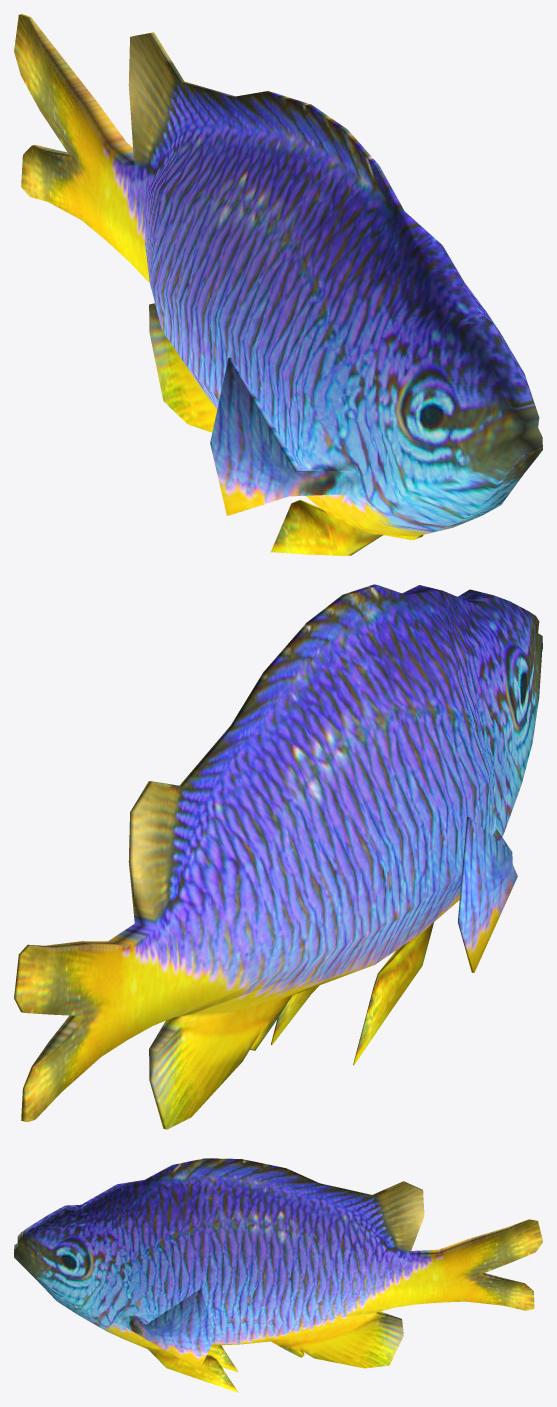
File: fish7.glb
3 renders of one model, top to bottom at view 1: azimuth 30°, elevation 25°; view 2: azimuth 150°, elevation 25°; view 3: azimuth 270°, elevation 25°, orthographic. The views are drawn at different scales.
Parts seen in each view (by area): view 1: Asset3DLoader.sceneRoot; view 2: Asset3DLoader.sceneRoot; view 3: Asset3DLoader.sceneRoot.
Part boxes in pixels (<box>): Asset3DLoader.sceneRoot: <box>14,14,542,555</box>; Asset3DLoader.sceneRoot: <box>14,584,542,1129</box>; Asset3DLoader.sceneRoot: <box>14,1158,542,1392</box>.
Bounding box in the file's own units: 129 × 215 × 461.
Materials: 1 (1 with a texture image).
